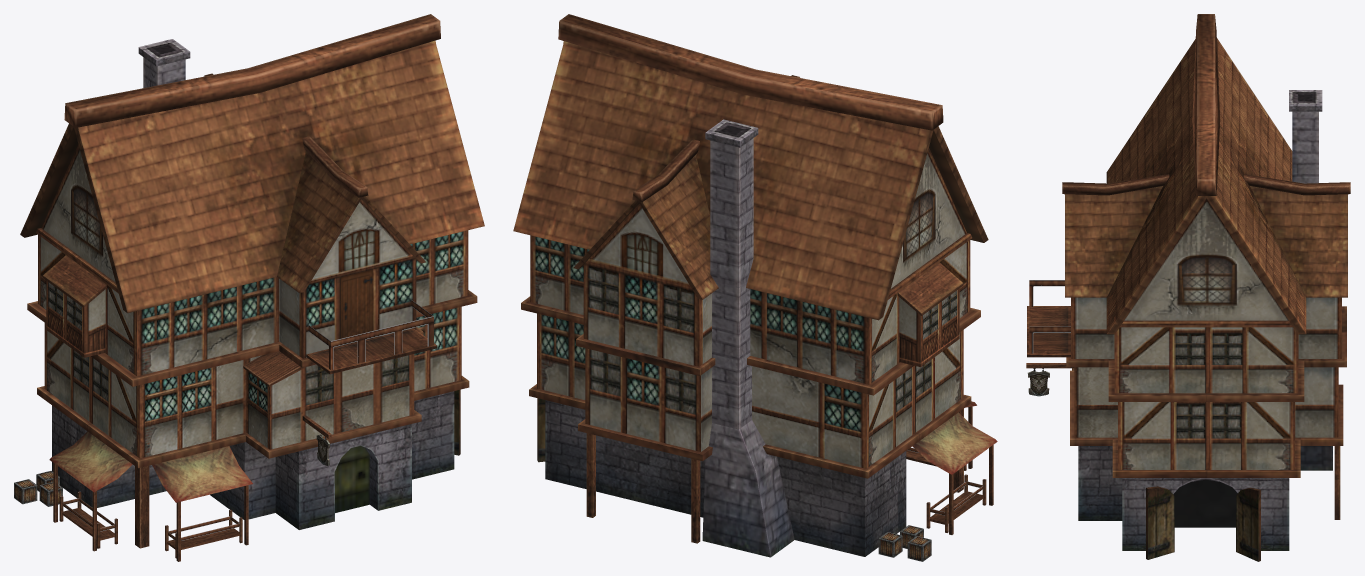
File: MEB_building_03.fbx
3 renders of one model, left to right at view 1: azimuth 30°, elevation 25°; view 2: azimuth 150°, elevation 25°; view 3: azimuth 270°, elevation 25°, orthographic. The views are drawn at different scales.
Parts seen in each view (by area): view 1: MEB_building_03; view 2: MEB_building_03; view 3: MEB_building_03.
Boxes of the visible parts, left/top/right/bottom form: MEB_building_03: left=14, top=14, right=484, bottom=561; MEB_building_03: left=513, top=14, right=997, bottom=561; MEB_building_03: left=1026, top=14, right=1350, bottom=561.
Size of the model in its own units: 1129 by 1152 by 884.
